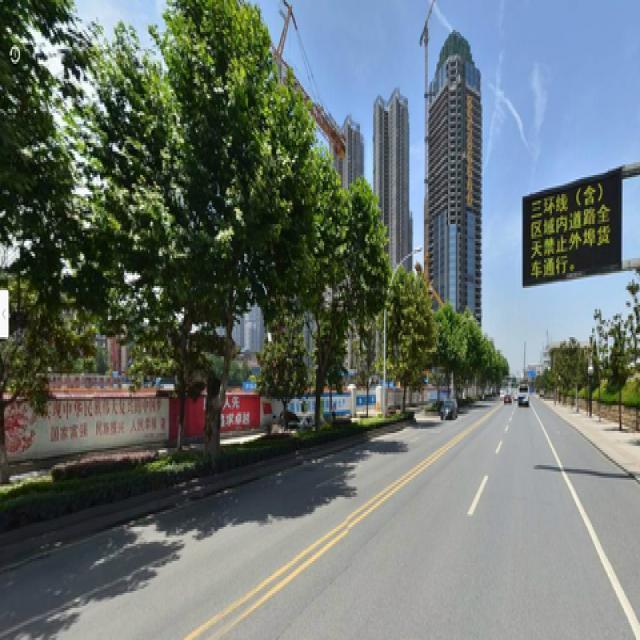meta: (104, 15, 299, 461)
